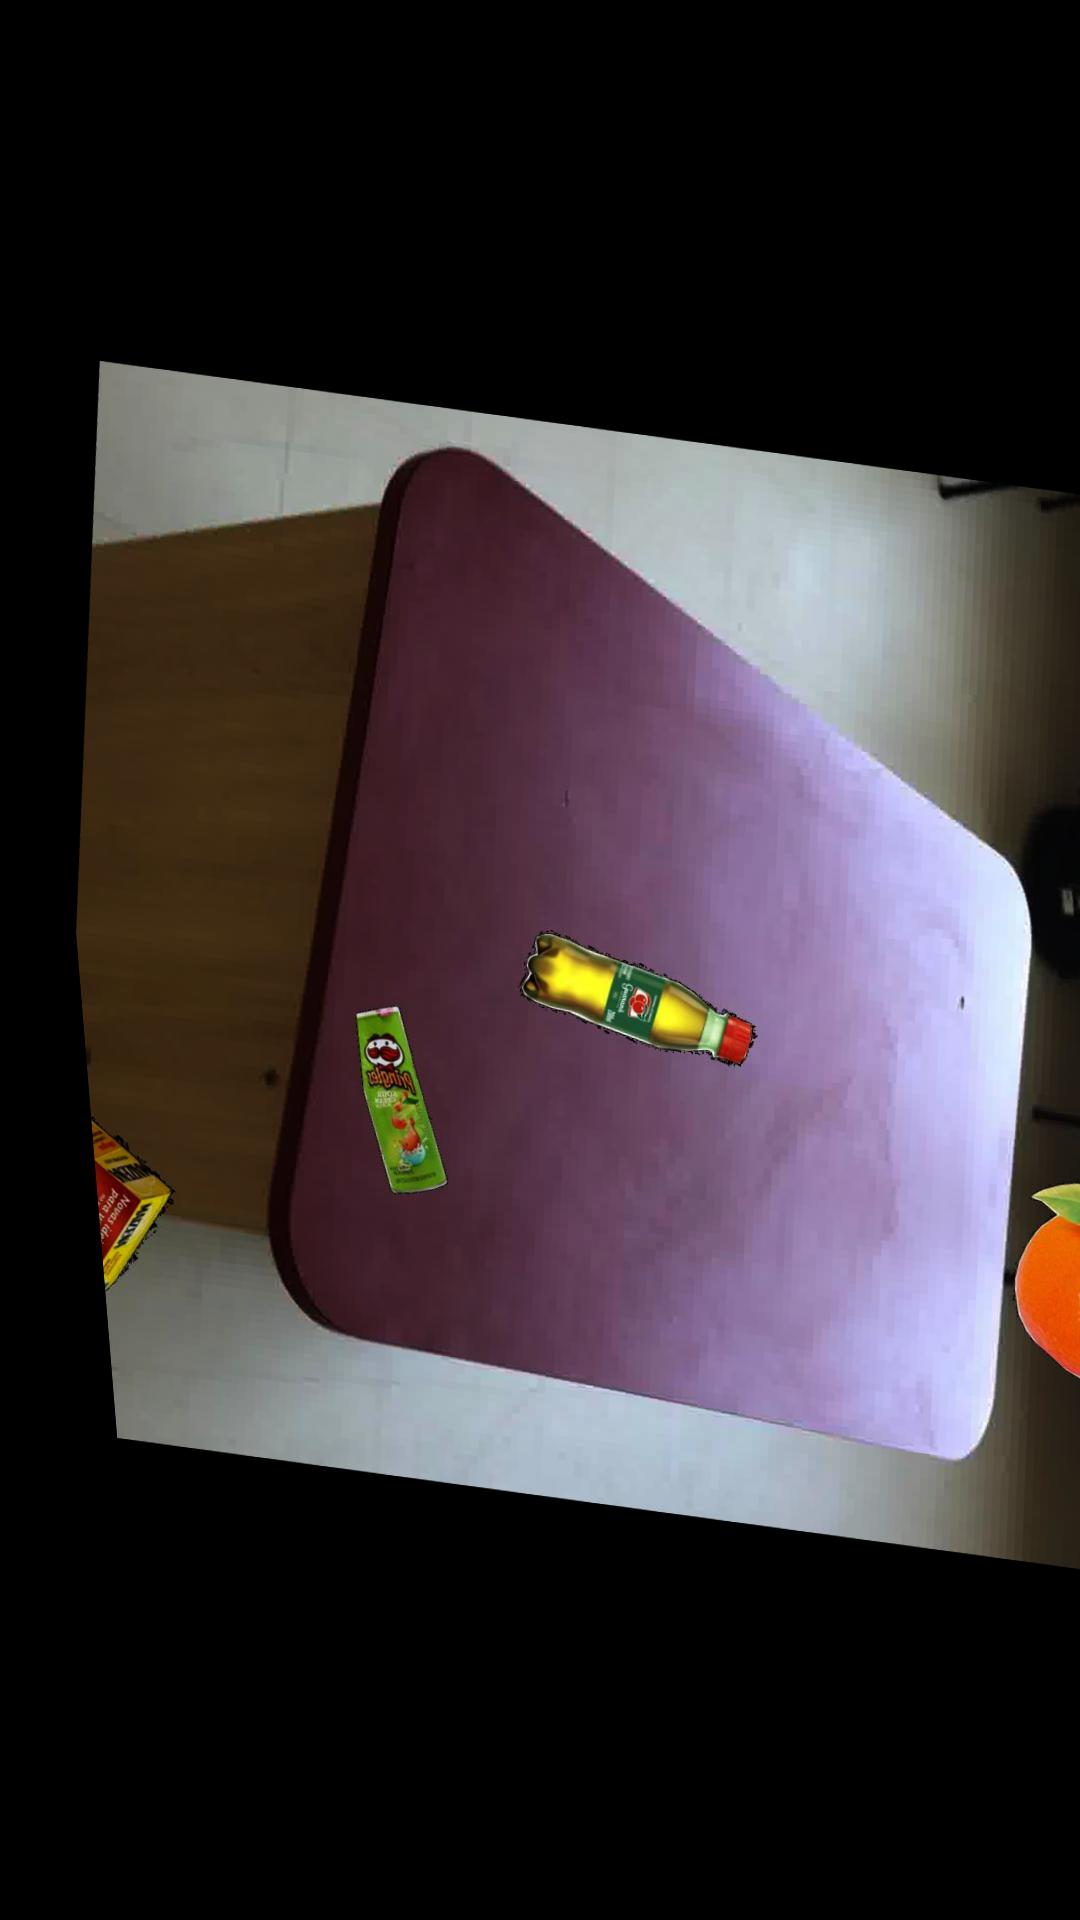guarana: (505, 931, 738, 1064)
orange: (993, 1178, 1080, 1383)
pringles: (339, 1005, 429, 1193)
